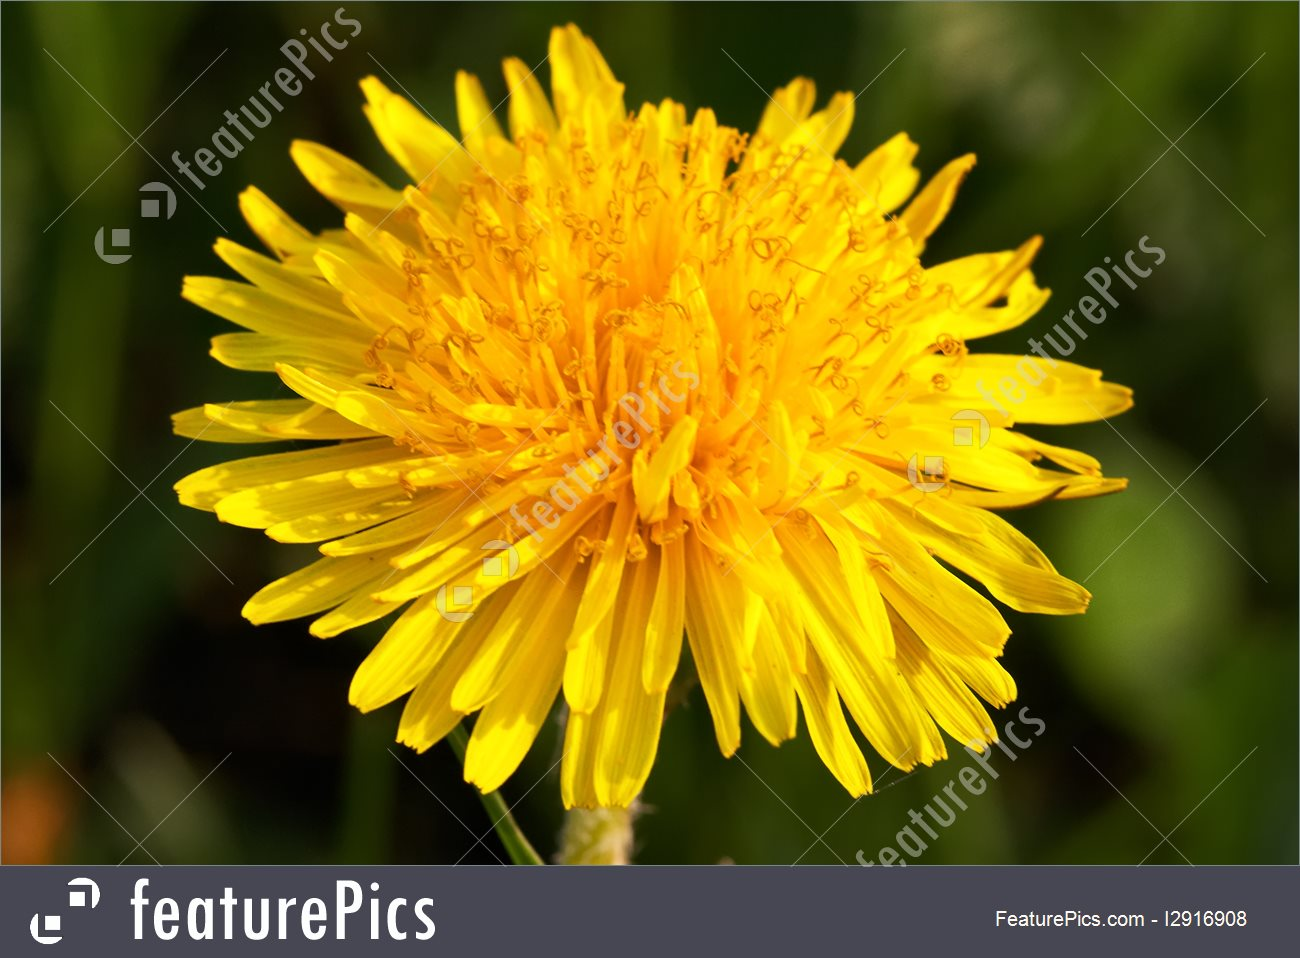dandelion: (170, 85, 1108, 829)
